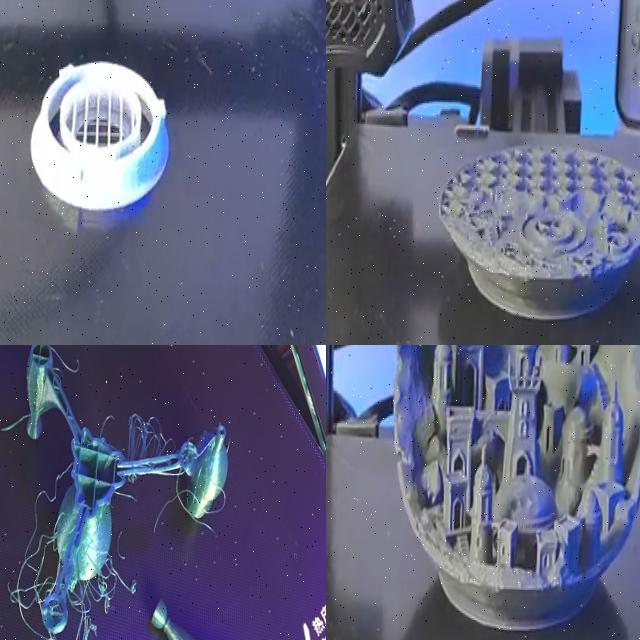spaghetti: (57, 541, 159, 639), (7, 506, 50, 640)
